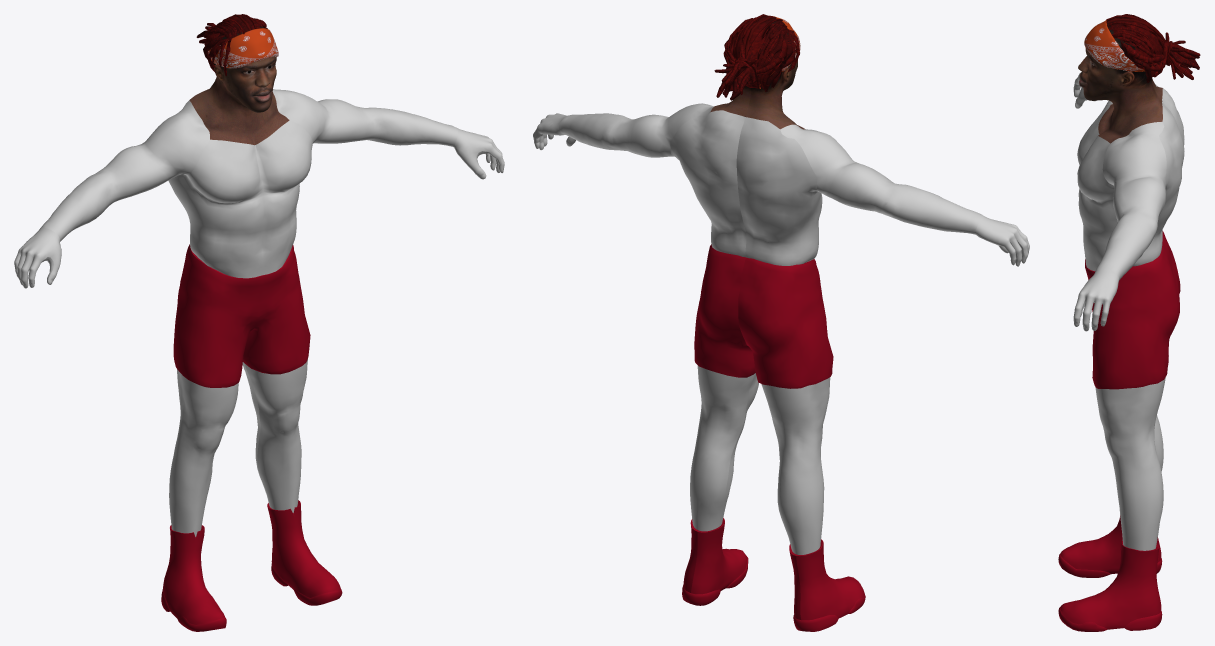
File: ksi.fbx
3 renders of one model, left to right at view 1: azimuth 30°, elevation 25°; view 2: azimuth 150°, elevation 25°; view 3: azimuth 270°, elevation 25°, orthographic.
Visible parts, largest first — view 1: Body, Underwear, Shoes, Head, Red Hair, Bandana; view 2: Body, Underwear, Shoes, Red Hair, Head; view 3: Body, Underwear, Shoes, Head, Red Hair, Bandana.
Part boxes in pixels (<box>): Body: <box>14,89,504,536</box>; Underwear: <box>173,244,310,387</box>; Shoes: <box>161,500,342,631</box>; Head: <box>189,25,289,145</box>; Red Hair: <box>196,14,267,76</box>; Bandana: <box>208,28,278,68</box>; Body: <box>533,103,1029,554</box>; Underwear: <box>694,244,833,388</box>; Shoes: <box>682,518,865,631</box>; Red Hair: <box>714,14,799,100</box>; Head: <box>710,21,805,129</box>; Body: <box>1073,72,1184,550</box>; Underwear: <box>1085,231,1180,389</box>; Shoes: <box>1058,515,1162,631</box>; Head: <box>1078,20,1162,143</box>; Red Hair: <box>1106,14,1200,82</box>; Bandana: <box>1084,20,1144,71</box>.
Size of the model in its own units: 1720 by 1983 by 440.
